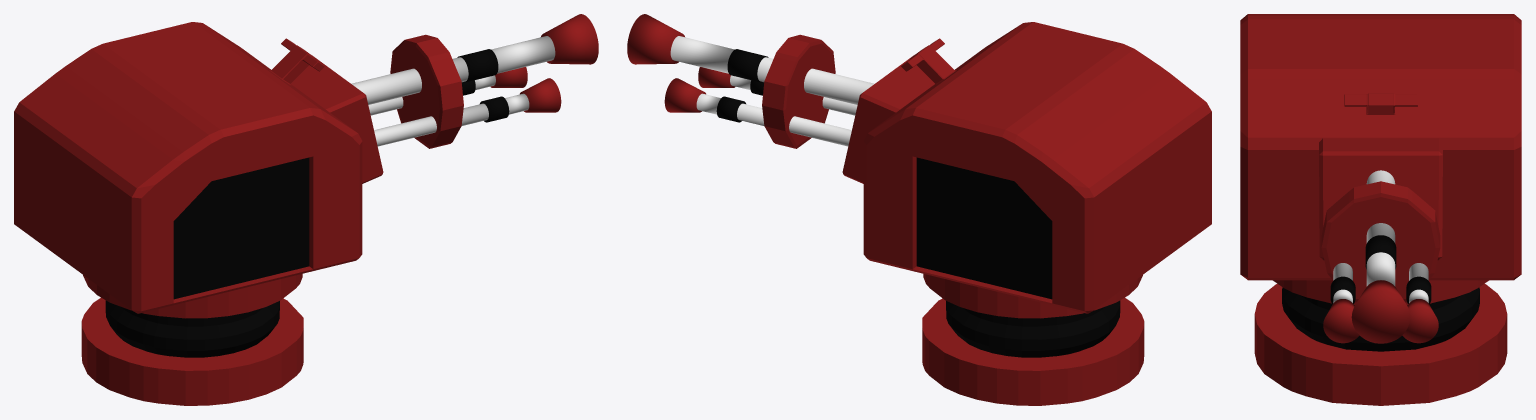
File: 未命名.fbx
The picture shows the model from 3 angles, left to right: view 1: azimuth 30°, elevation 25°; view 2: azimuth 150°, elevation 25°; view 3: azimuth 270°, elevation 25°; orthographic projection. The views are drawn at different scales.
Visible parts, largest first — view 1: Turret, Turret.001; view 2: Turret, Turret.001; view 3: Turret, Turret.001.
Boxes of the visible parts, x1,y1,x2,y2 form: Turret: [14, 14, 598, 313]; Turret.001: [81, 274, 303, 405]; Turret: [627, 14, 1211, 313]; Turret.001: [922, 274, 1144, 405]; Turret: [1240, 14, 1521, 343]; Turret.001: [1254, 280, 1507, 405].
Bounding box in the file's own units: 106 × 55.98 × 44.56.
